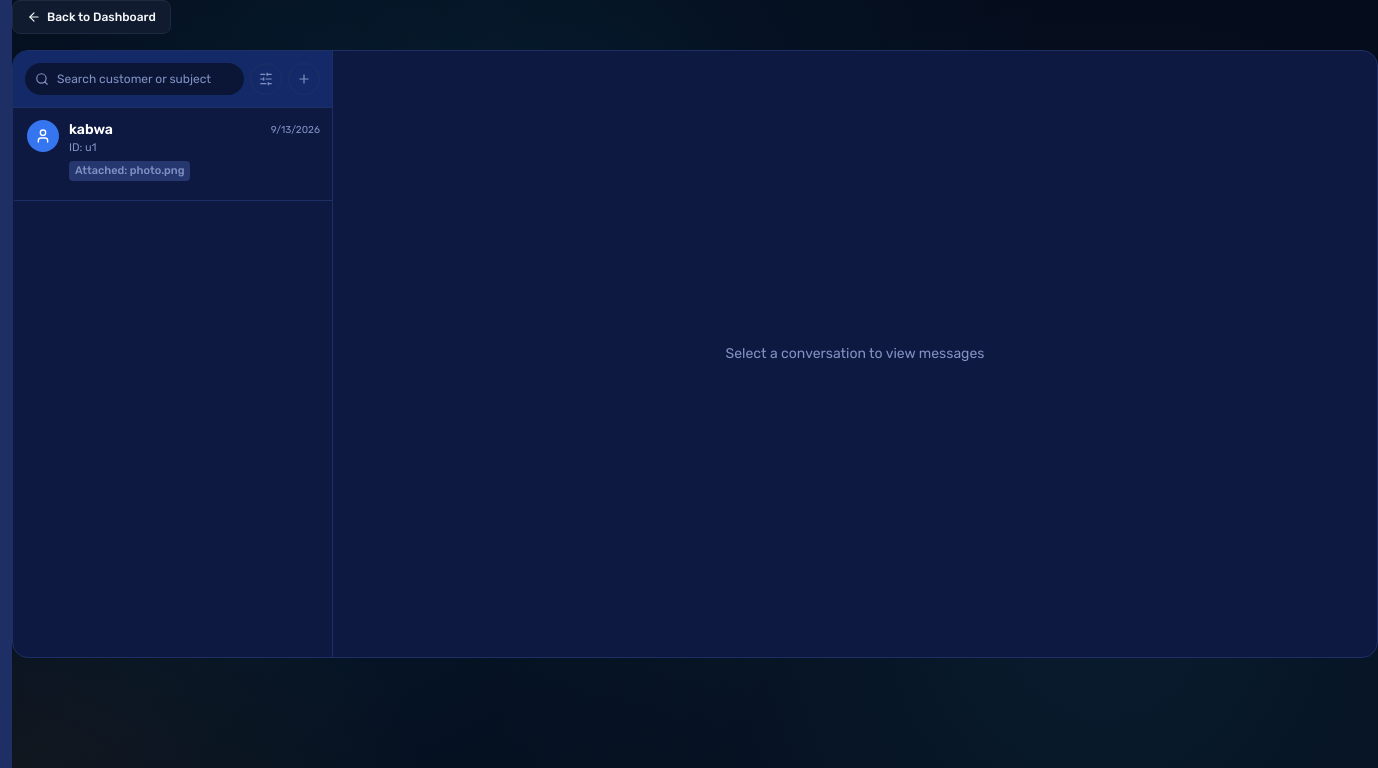
Test case: Admin SupportPage › editing a message you sent › desktop: right-clicking your own message opens a menu with "Edit message"
The image size is (1378, 768).
Click the text "kabwa": x=91, y=130 [69,120,113,140]
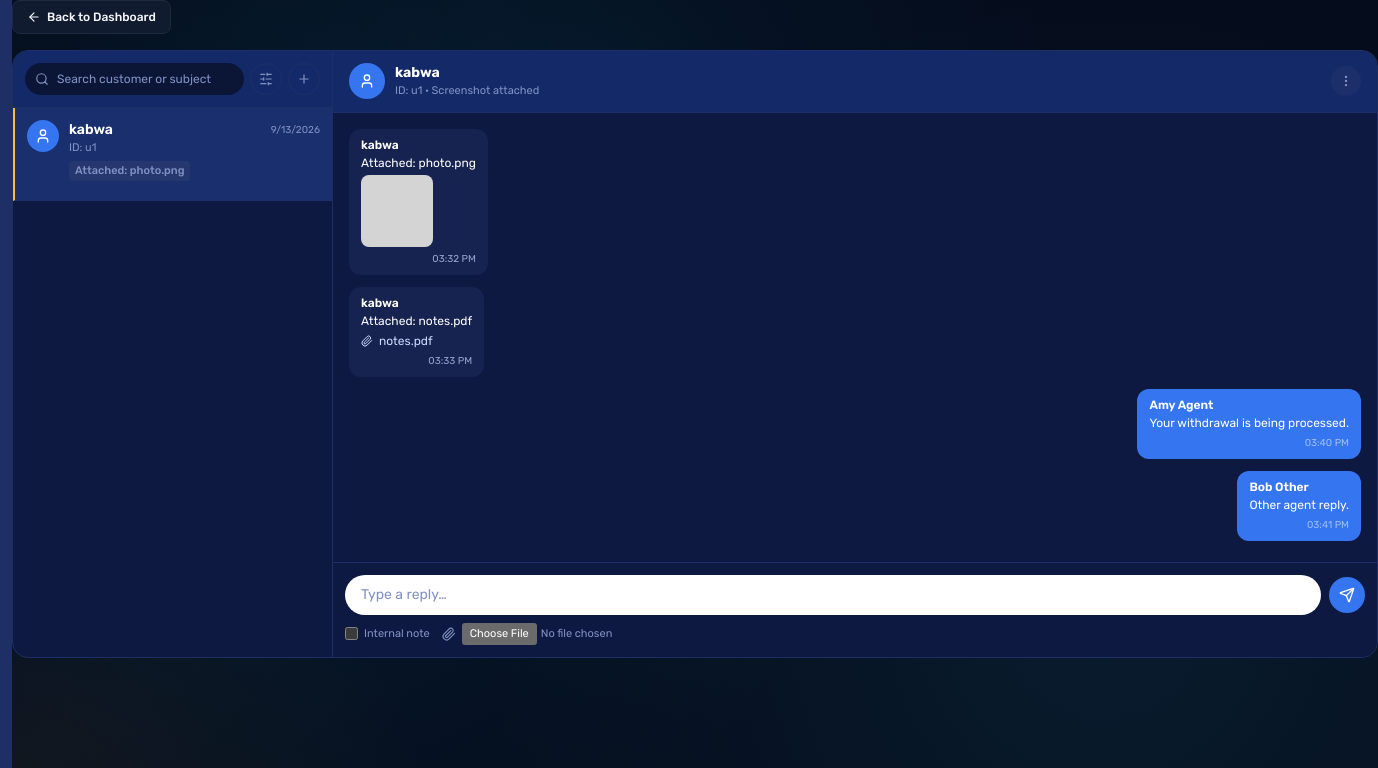
Expected: the text "Your withdrawal is being processed." is shown, [1150,414,1349,430]
Right-click the element showing "Amy Agent Your withdrawal is being processed. 03:40 PM": x=1249, y=424 [1138,388,1361,458]
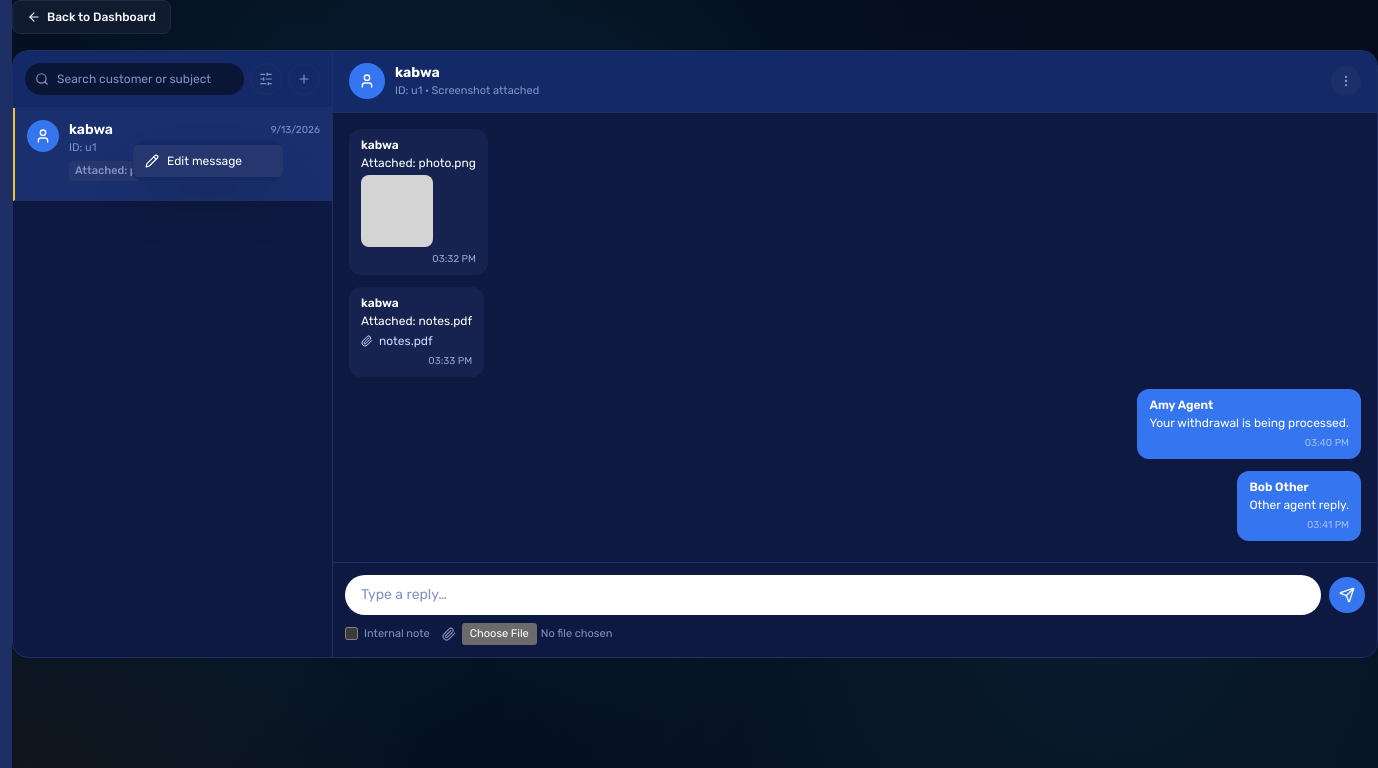
Expected: the menu item "Edit message" is shown, [133,145,283,177]
